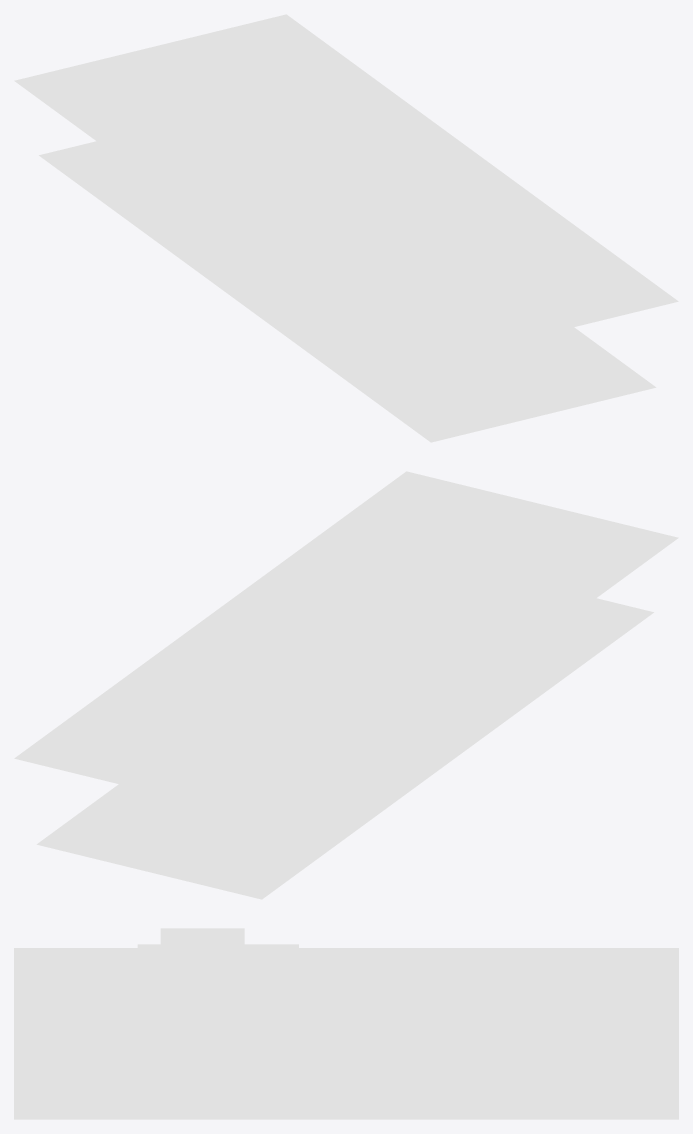
Rendered from carrier_wireframe.fbx.
The picture shows the model from 3 angles, top to bottom: view 1: azimuth 30°, elevation 25°; view 2: azimuth 150°, elevation 25°; view 3: azimuth 270°, elevation 25°; orthographic projection. The views are drawn at different scales.
Parts seen in each view (by area): view 1: carrier_map_carrier; view 2: carrier_map_carrier; view 3: carrier_map_carrier.
Boxes of the visible parts, box(x1,y1,x2,y2) form: carrier_map_carrier: box(14, 14, 678, 442); carrier_map_carrier: box(14, 471, 678, 899); carrier_map_carrier: box(14, 928, 678, 1119).
Size of the model in its own units: 8793 by 3560 by 21935.
1 material, 1 textured.
